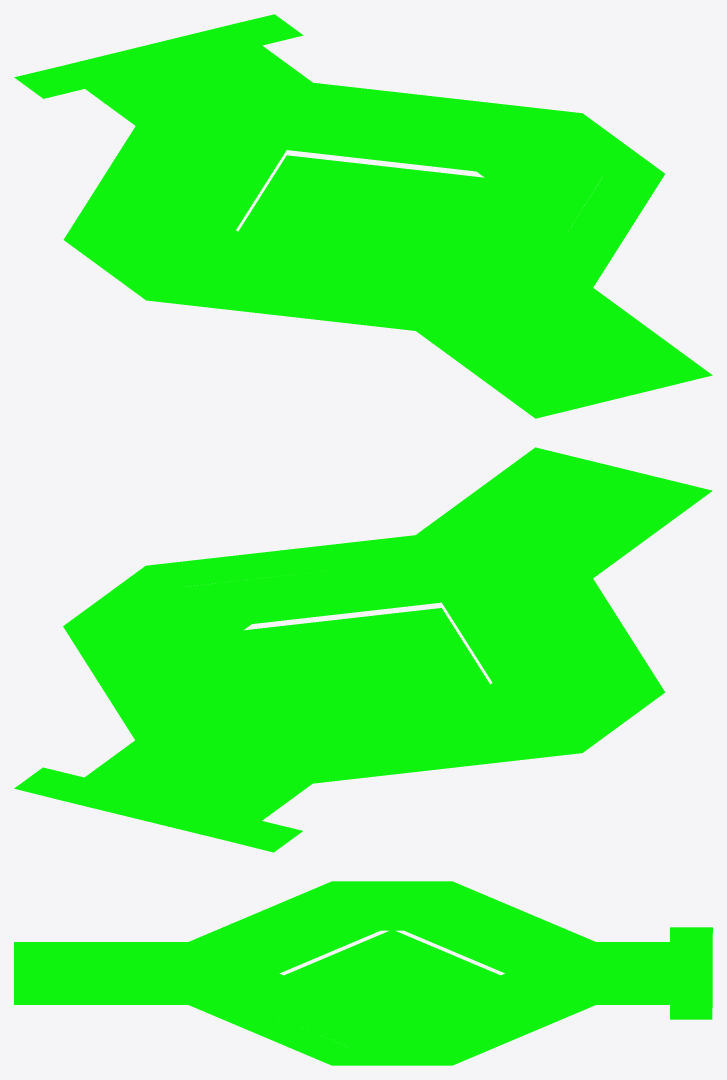
The model's file is s084_ga1-floor.glb.
The picture shows the model from 3 angles, top to bottom: view 1: azimuth 30°, elevation 25°; view 2: azimuth 150°, elevation 25°; view 3: azimuth 270°, elevation 25°; orthographic projection. The views are drawn at different scales.
Visible parts, largest first — view 1: collision_floor-colonly; view 2: collision_floor-colonly; view 3: collision_floor-colonly.
Part boxes in pixels (<box>): collision_floor-colonly: <box>14,14,712,418</box>; collision_floor-colonly: <box>14,447,712,852</box>; collision_floor-colonly: <box>14,881,712,1065</box>.
Size of the model in its own units: 20.48 by 0.1992 by 32.82.
